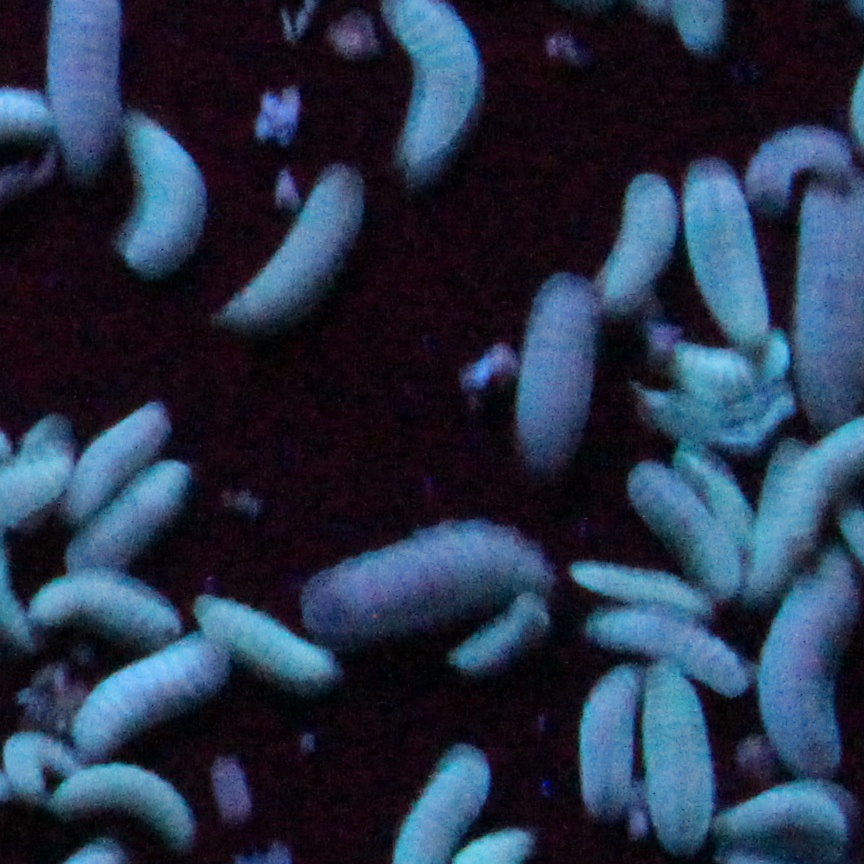larve: (293, 508, 571, 635), (217, 156, 366, 335), (80, 623, 237, 759), (670, 153, 781, 338), (512, 264, 602, 481), (119, 102, 207, 294), (188, 592, 352, 692), (565, 661, 657, 833), (39, 753, 207, 843), (55, 395, 178, 517), (561, 544, 716, 625)
